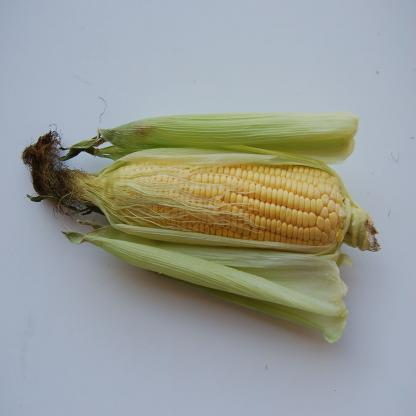---: (94, 142, 363, 257)
